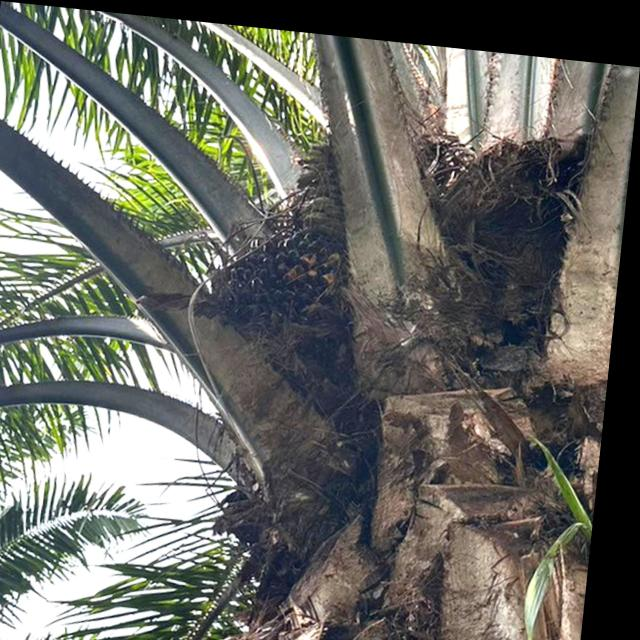almost: (198, 207, 363, 341)
